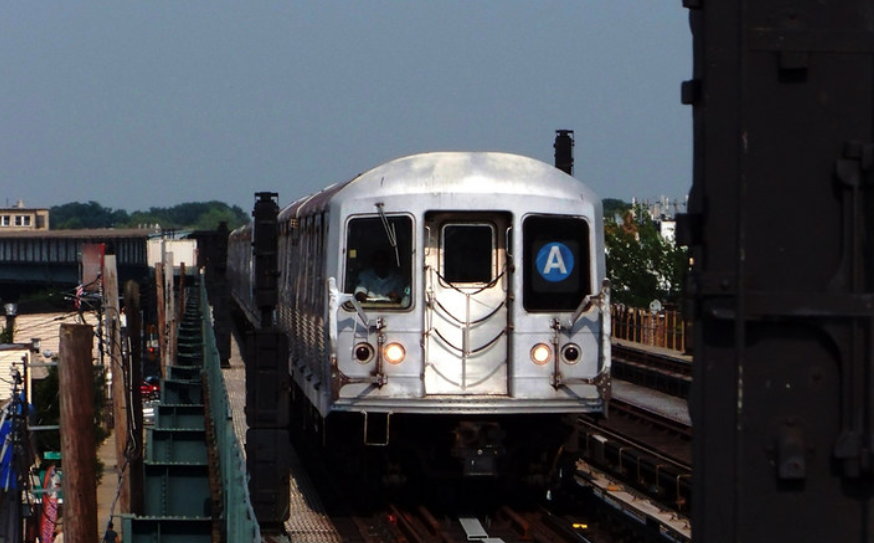train: (323, 148, 609, 424)
